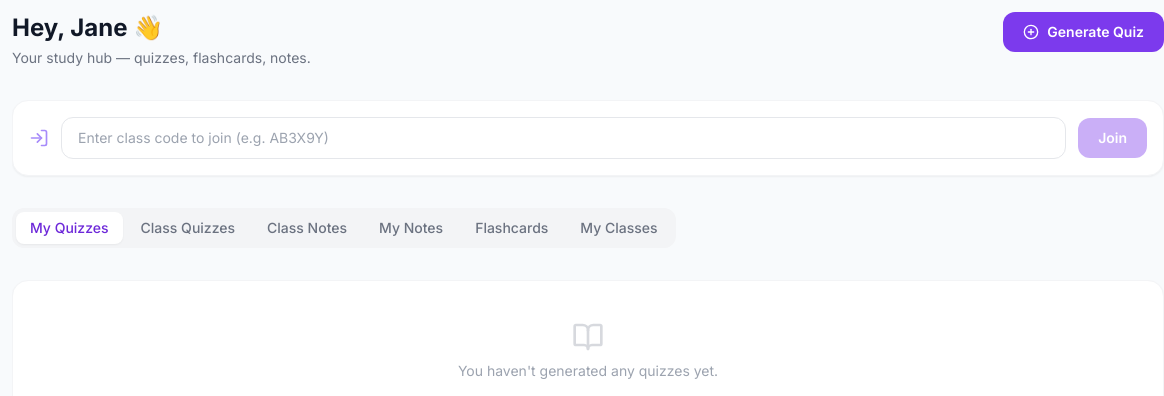
StudentDashboard - FEAT-003 › AC-3.1.4: already a member message on 409 response
The image size is (1164, 396).
Type a class code
Type "MATH101" into the field with placeholder "Enter class code to join (e.g. AB3X9Y)" at (564, 138), box [61, 117, 1066, 159]
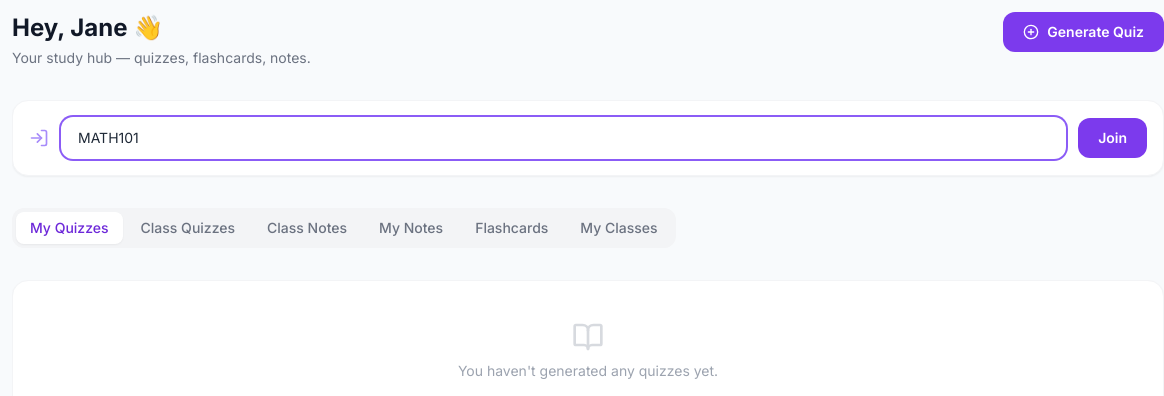
Click join
Click the button "Join" at (1113, 138), box [1078, 118, 1147, 158]
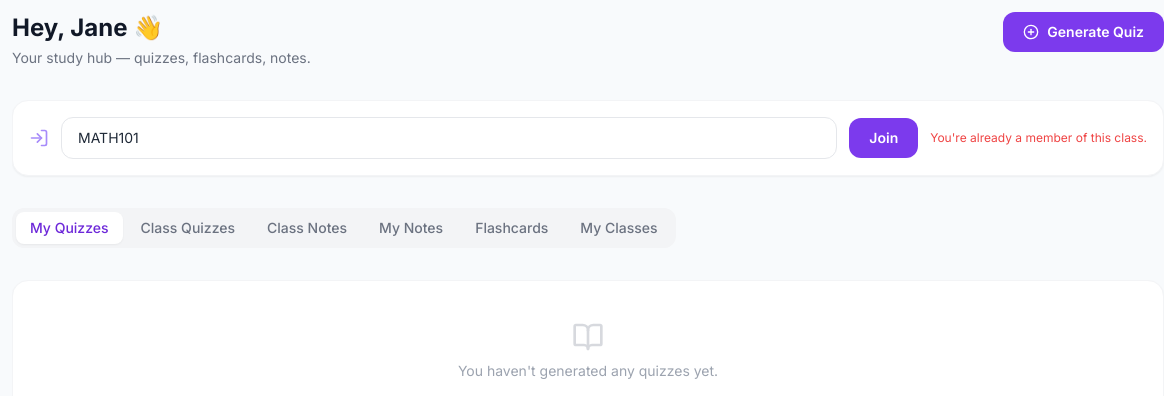
Check: the text "You're already a member of this class." is shown, box [930, 130, 1147, 146]
